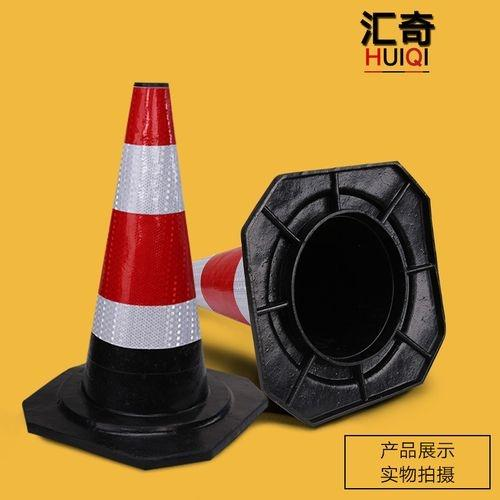cone_barrel: (188, 164, 455, 423), (53, 87, 226, 442)
